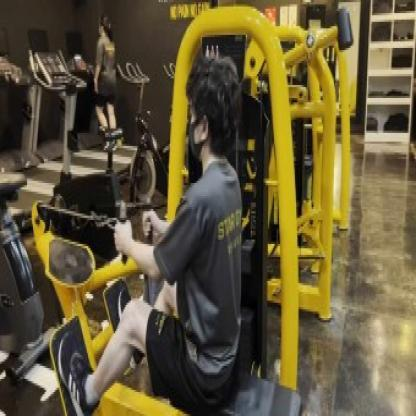Seated Cable Rows: (0, 0, 309, 416)
